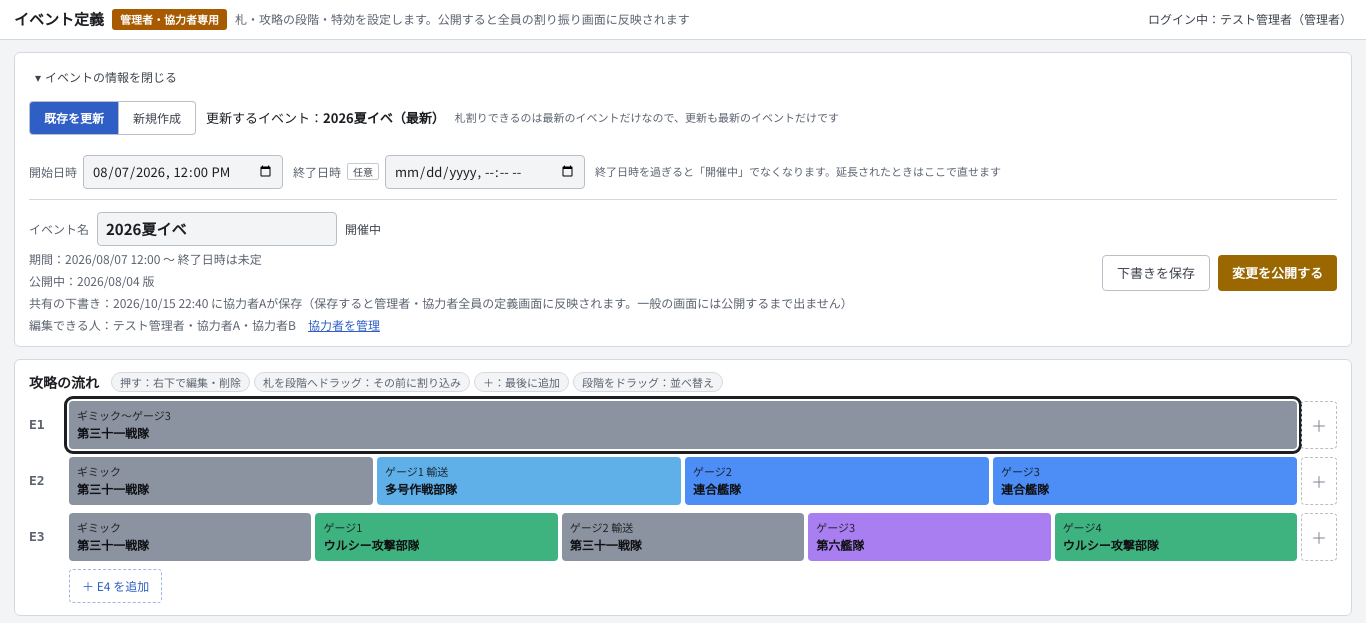
Test: イベント定義の画面（PlanEditor）：保存時の衝突の確認（同時編集） › 同じ所を 2 人が変えていたとき（衝突あり）：確認のウィンドウで選ばせる › どちらかを選ぶと「この内容で保存」を押せるようになる
This screenshot has width=1366, height=623.
Check: the element "攻略の流れ" is shown, box [14, 358, 1352, 616]
Click the button "ゲージ3 連合艦隊" at (1020,470), box [993, 456, 1297, 504]
(page scrolled)
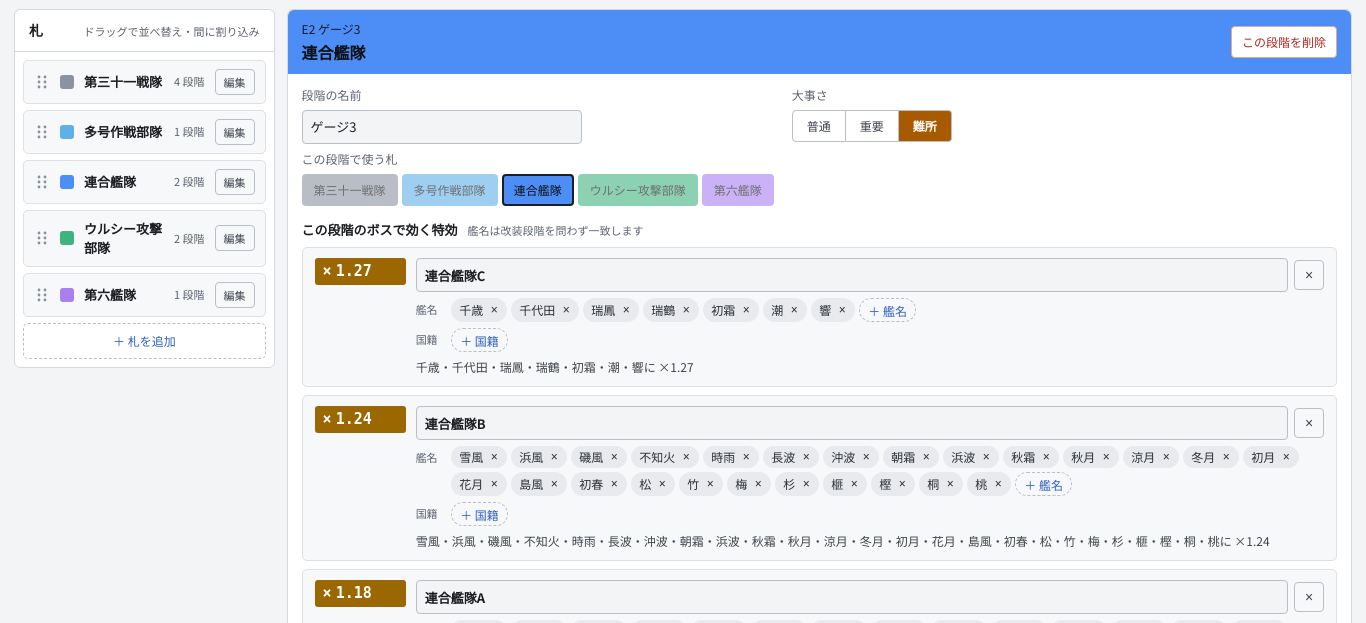
Click the button "普通" at (819,126), box [792, 110, 846, 142]
(page scrolled)
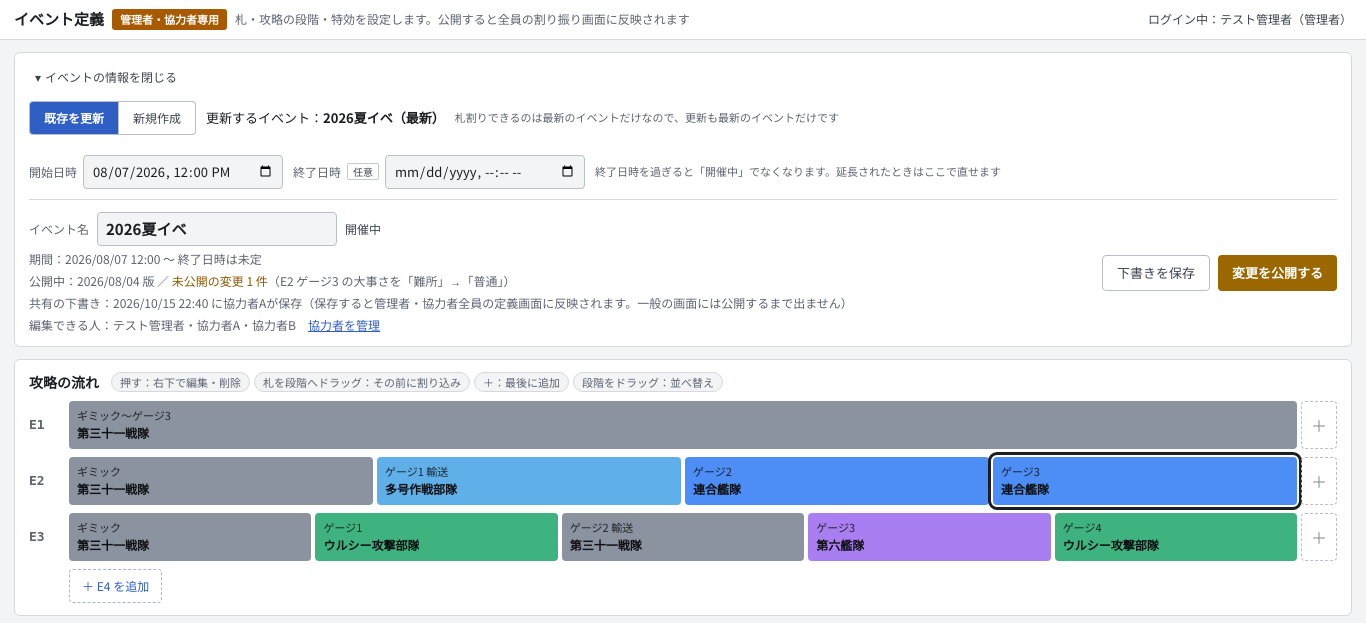
Click the button "下書きを保存" at (1156,272), box [1102, 254, 1210, 290]
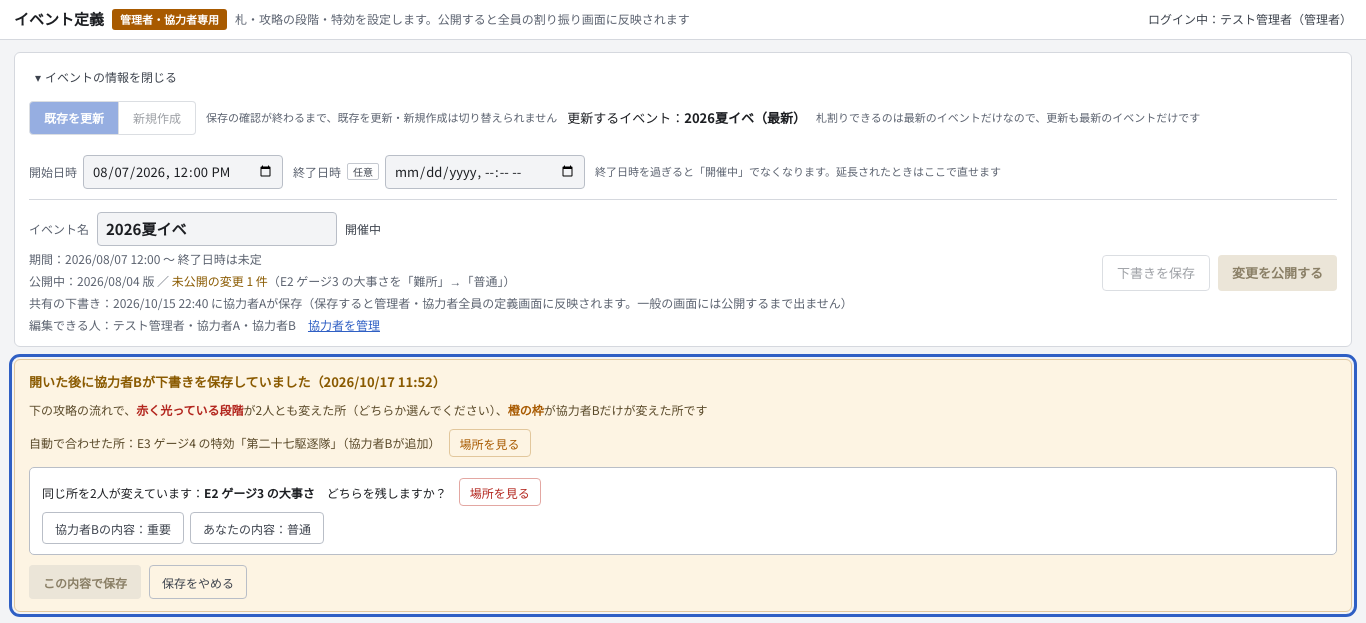
Click the radio button labelled "協力者Bの内容：重要" at (113,528), box [42, 512, 184, 544]
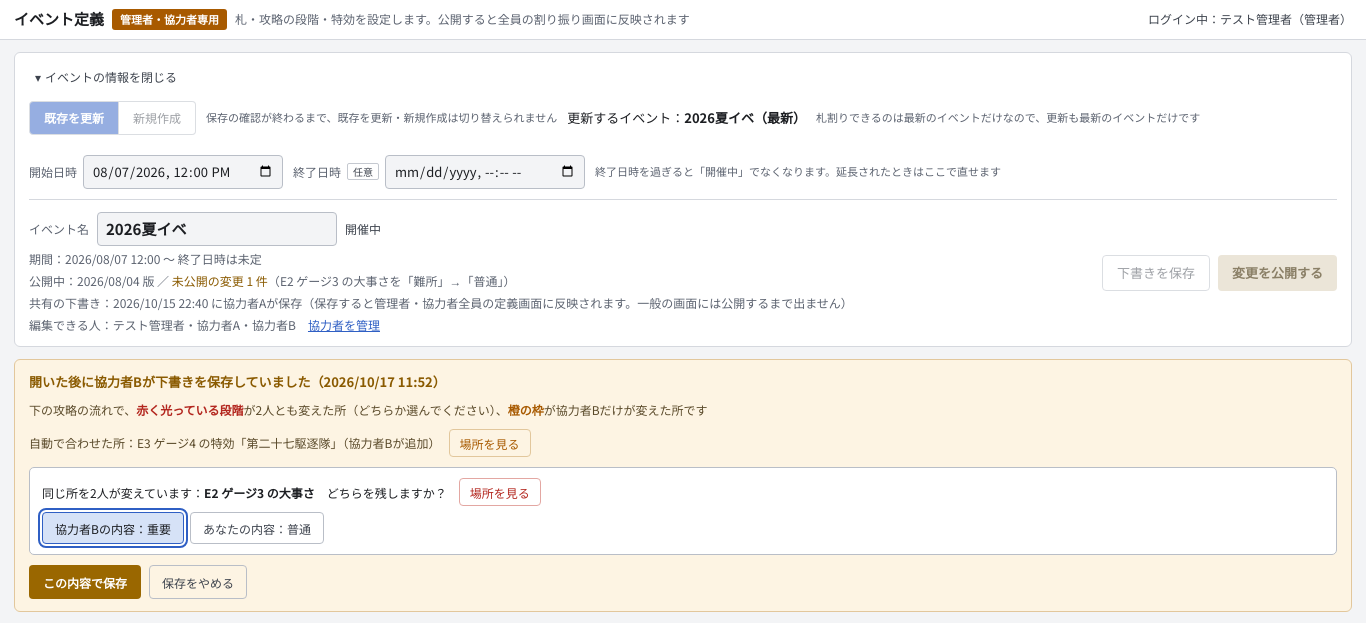
Check: the button "この内容で保存" is enabled, box [29, 565, 141, 599]
